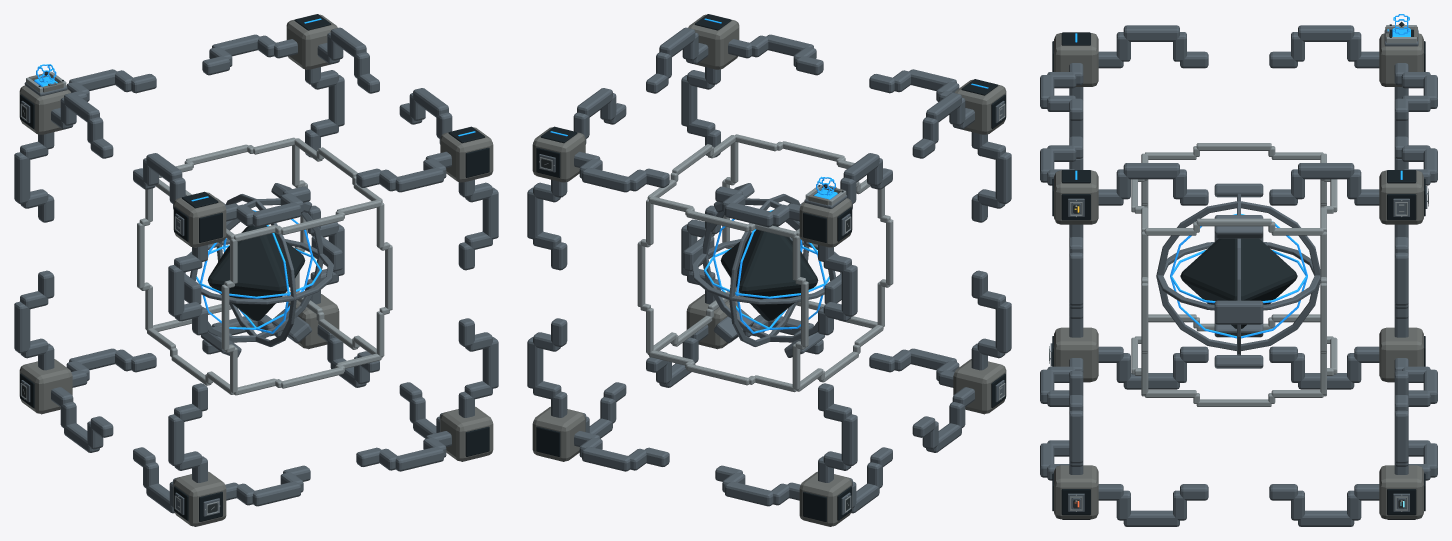
The model's file is ImpossibleCubeSingularity.glb.
The picture shows the model from 3 angles, left to right: view 1: azimuth 30°, elevation 25°; view 2: azimuth 150°, elevation 25°; view 3: azimuth 270°, elevation 25°; orthographic projection. The views are drawn at different scales.
Visible parts, largest first — view 1: ImpossibleCube_Faceted_Dark_Core, ImpossibleCube_Fractured_Corner_02, ImpossibleCube_Fractured_Corner_04, ImpossibleCube_Singularity_Field_X, ImpossibleCube_Fractured_Corner_07, ImpossibleCube_Fractured_Corner_05, ImpossibleCube_Fractured_Corner_00, ImpossibleCube_Singularity_Field_Y, ImpossibleCube_Singularity_Field_Z, ImpossibleCube_Fractured_Corner_01, ImpossibleCube_Fractured_Corner_03, ImpossibleCube_Fractured_Corner_06 (+23 smaller); view 2: ImpossibleCube_Faceted_Dark_Core, ImpossibleCube_Fractured_Corner_00, ImpossibleCube_Fractured_Corner_06, ImpossibleCube_Singularity_Field_X, ImpossibleCube_Fractured_Corner_05, ImpossibleCube_Fractured_Corner_07, ImpossibleCube_Fractured_Corner_02, ImpossibleCube_Singularity_Field_Y, ImpossibleCube_Fractured_Corner_01, ImpossibleCube_Singularity_Field_Z, ImpossibleCube_Fractured_Corner_03, ImpossibleCube_Fractured_Corner_04 (+23 smaller); view 3: ImpossibleCube_Faceted_Dark_Core, ImpossibleCube_Singularity_Field_X, ImpossibleCube_Fractured_Corner_00, ImpossibleCube_Fractured_Corner_02, ImpossibleCube_Singularity_Field_Z, ImpossibleCube_Fractured_Corner_04, ImpossibleCube_Fractured_Corner_06, ImpossibleCube_Fractured_Corner_01, ImpossibleCube_Fractured_Corner_03, ImpossibleCube_Fractured_Corner_05, ImpossibleCube_Fractured_Corner_07, ImpossibleCube_Field_Vane_0 (+32 smaller).
Part boxes in pixels (x1=…): ImpossibleCube_Faceted_Dark_Core: x1=207, y1=225, x2=305, y2=320; ImpossibleCube_Fractured_Corner_02: x1=19, y1=359, x2=72, y2=413; ImpossibleCube_Fractured_Corner_04: x1=440, y1=406, x2=493, y2=461; ImpossibleCube_Singularity_Field_X: x1=216, y1=194, x2=296, y2=346; ImpossibleCube_Fractured_Corner_07: x1=286, y1=14, x2=337, y2=69; ImpossibleCube_Fractured_Corner_05: x1=440, y1=127, x2=493, y2=182; ImpossibleCube_Fractured_Corner_00: x1=173, y1=471, x2=226, y2=526; ImpossibleCube_Singularity_Field_Y: x1=190, y1=198, x2=323, y2=342; ImpossibleCube_Singularity_Field_Z: x1=184, y1=239, x2=333, y2=304; ImpossibleCube_Fractured_Corner_01: x1=173, y1=192, x2=226, y2=247; ImpossibleCube_Fractured_Corner_03: x1=19, y1=85, x2=70, y2=134; ImpossibleCube_Fractured_Corner_06: x1=287, y1=294, x2=339, y2=348; ImpossibleCube_Faceted_Dark_Core: x1=720, y1=225, x2=818, y2=320; ImpossibleCube_Fractured_Corner_00: x1=953, y1=359, x2=1006, y2=413; ImpossibleCube_Fractured_Corner_06: x1=532, y1=406, x2=585, y2=461; ImpossibleCube_Singularity_Field_X: x1=729, y1=194, x2=809, y2=346; ImpossibleCube_Fractured_Corner_05: x1=688, y1=14, x2=739, y2=69; ImpossibleCube_Fractured_Corner_07: x1=532, y1=127, x2=585, y2=182; ImpossibleCube_Fractured_Corner_02: x1=799, y1=471, x2=852, y2=526; ImpossibleCube_Singularity_Field_Y: x1=702, y1=198, x2=835, y2=342; ImpossibleCube_Fractured_Corner_01: x1=955, y1=79, x2=1006, y2=134; ImpossibleCube_Singularity_Field_Z: x1=692, y1=237, x2=841, y2=304; ImpossibleCube_Fractured_Corner_03: x1=799, y1=198, x2=852, y2=247; ImpossibleCube_Fractured_Corner_04: x1=686, y1=294, x2=738, y2=348; ImpossibleCube_Faceted_Dark_Core: x1=1180, y1=238, x2=1297, y2=328; ImpossibleCube_Singularity_Field_X: x1=1156, y1=201, x2=1320, y2=350; ImpossibleCube_Fractured_Corner_00: x1=1054, y1=327, x2=1098, y2=381; ImpossibleCube_Fractured_Corner_02: x1=1379, y1=327, x2=1423, y2=381; ImpossibleCube_Singularity_Field_Z: x1=1156, y1=242, x2=1320, y2=310; ImpossibleCube_Fractured_Corner_04: x1=1054, y1=465, x2=1098, y2=519; ImpossibleCube_Fractured_Corner_06: x1=1379, y1=465, x2=1423, y2=519; ImpossibleCube_Fractured_Corner_01: x1=1054, y1=33, x2=1098, y2=86; ImpossibleCube_Fractured_Corner_03: x1=1379, y1=33, x2=1423, y2=86; ImpossibleCube_Fractured_Corner_05: x1=1054, y1=170, x2=1098, y2=224; ImpossibleCube_Fractured_Corner_07: x1=1379, y1=170, x2=1423, y2=224; ImpossibleCube_Field_Vane_0: x1=1214, y1=300, x2=1263, y2=324.
Bounding box in the file's own units: 0.587 × 0.604 × 0.587.
